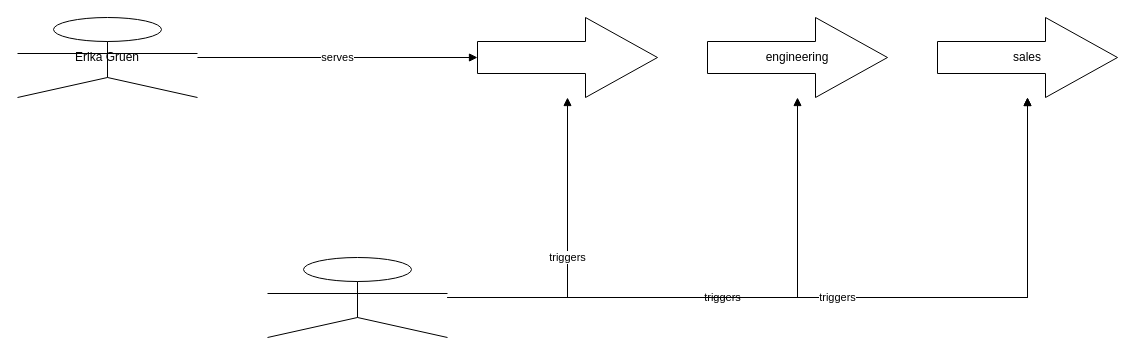
This 1135x355 diagram has some shape labels left out. The shapes that lost their labels are listed below. From the top down, each one's centre as x and y in pixels, then its label:
At (567,57): "procurement".
At (357,297): "Max Mustermann".
